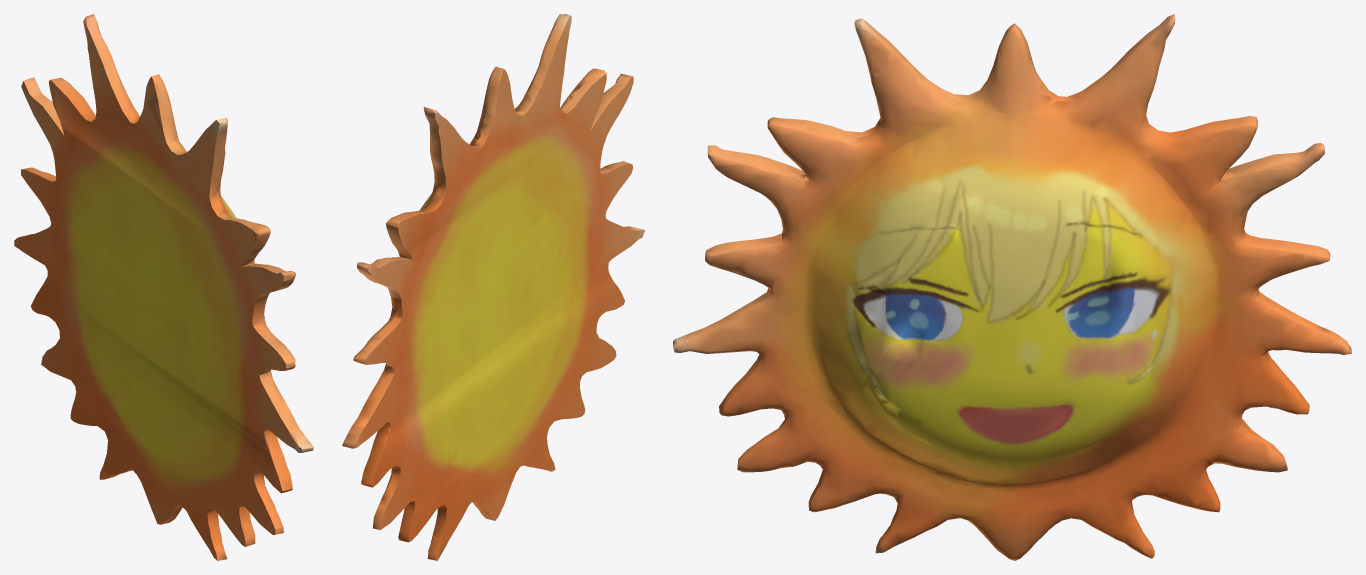
Rendered from Sun.fbx.
3 renders of one model, left to right at view 1: azimuth 30°, elevation 25°; view 2: azimuth 150°, elevation 25°; view 3: azimuth 270°, elevation 25°, orthographic. The views are drawn at different scales.
Visible parts, largest first — view 1: sun; view 2: sun; view 3: sun.
Part boxes in pixels (x1,y1,x2,y2): sun: [14, 14, 313, 560]; sun: [342, 14, 644, 560]; sun: [673, 14, 1351, 560].
Size of the model in its own units: 68.63 by 424 by 483.
